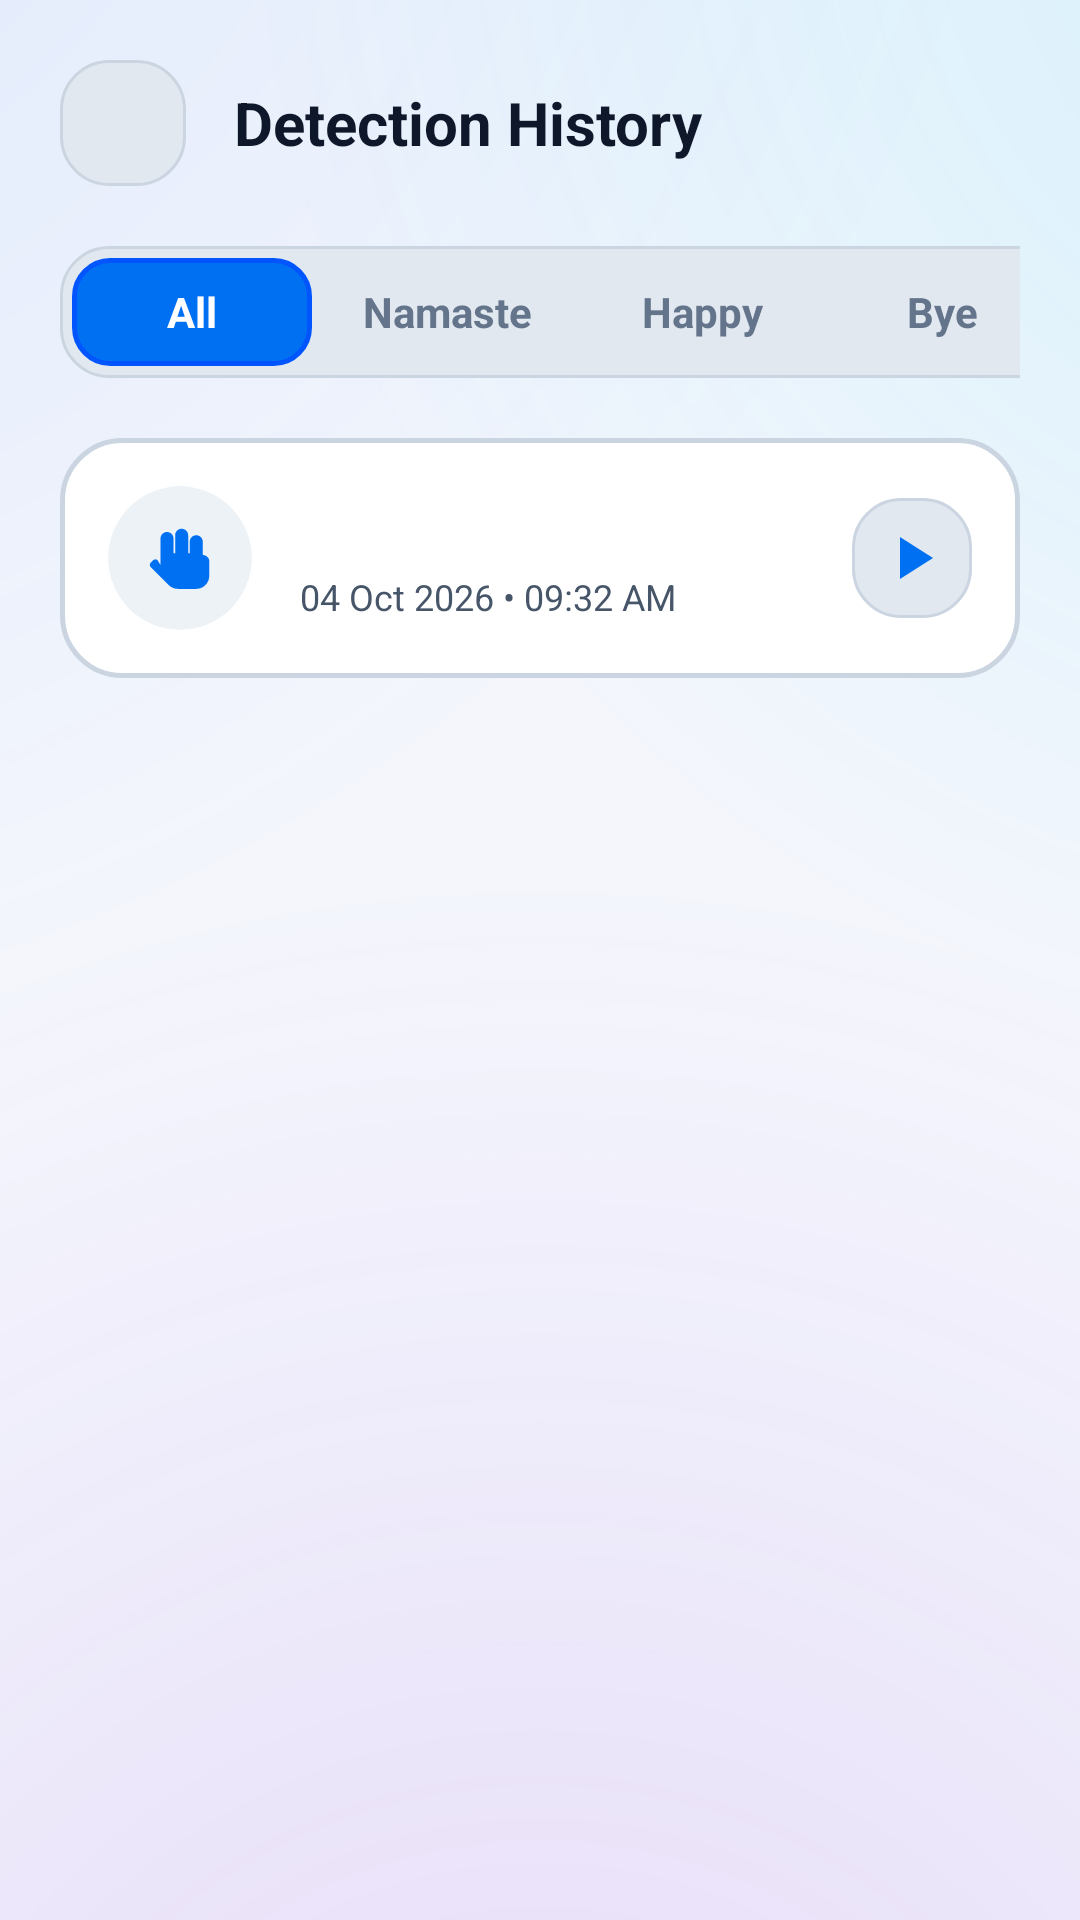

Icon bounding boxes for this 1080x1920 phone screenshot, format {"x1": x1, "y1": y1, "x2": x2, "y2": y2}:
Gesture Icon: {"x1": 149, "y1": 528, "x2": 210, "y2": 589}
Play Audio: {"x1": 852, "y1": 498, "x2": 972, "y2": 618}
